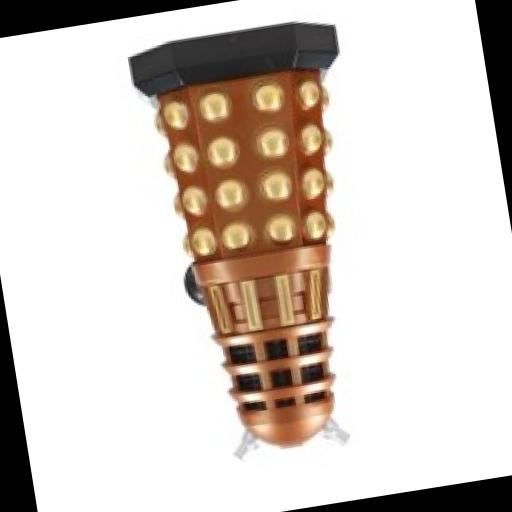dalek: (118, 14, 403, 477)
